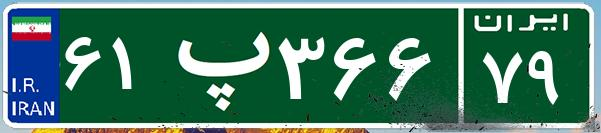1: (110, 28, 158, 105)
3: (273, 28, 330, 110)
6: (385, 28, 445, 110), (330, 28, 385, 110), (57, 26, 110, 107)
7: (475, 38, 525, 113)
9: (525, 38, 570, 115)
پ: (158, 15, 273, 115)
